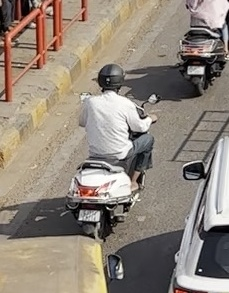BikeWithRider: (59, 59, 164, 244)
Helmet: (93, 60, 127, 95)
